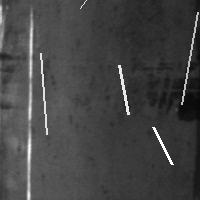scratches: (67, 55, 131, 187), (21, 7, 37, 200), (177, 7, 200, 109), (36, 48, 52, 139), (148, 122, 177, 169), (114, 60, 133, 119), (167, 89, 200, 122), (75, 0, 120, 13)
